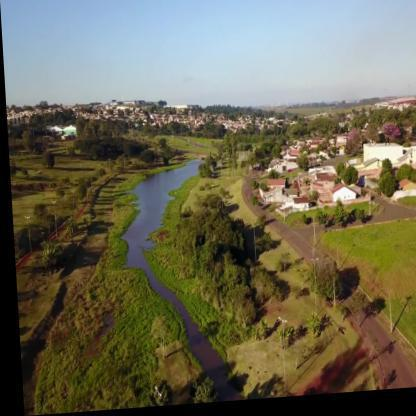agua: (129, 170, 177, 309), (171, 314, 238, 397)
